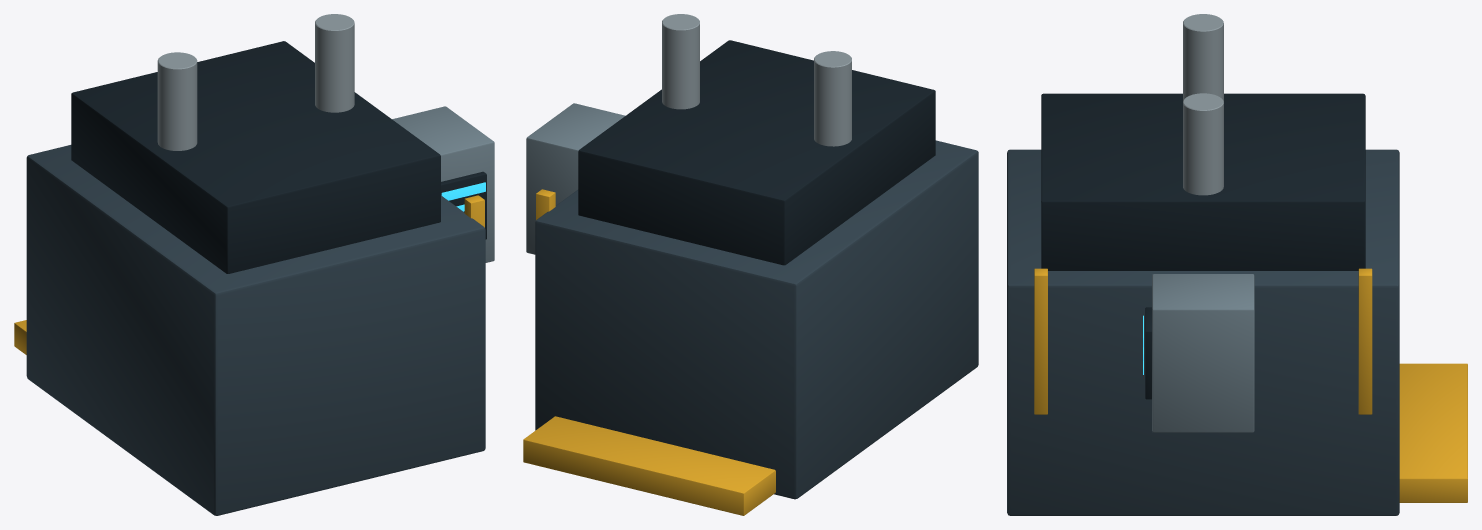
The model's file is shear_welder_mo.glb.
3 views of the same model, side by side, from view 1: azimuth 30°, elevation 25°; view 2: azimuth 150°, elevation 25°; view 3: azimuth 270°, elevation 25° (orthographic). The views are drawn at different scales.
Visible parts, largest first — view 1: Asset_shear_welder; view 2: Asset_shear_welder; view 3: Asset_shear_welder.
Part boxes in pixels (<box>): Asset_shear_welder: <box>14,14,494,515</box>; Asset_shear_welder: <box>523,14,978,515</box>; Asset_shear_welder: <box>1007,14,1467,515</box>.
Bounding box in the file's own units: 2.45 × 2.5 × 2.7.
